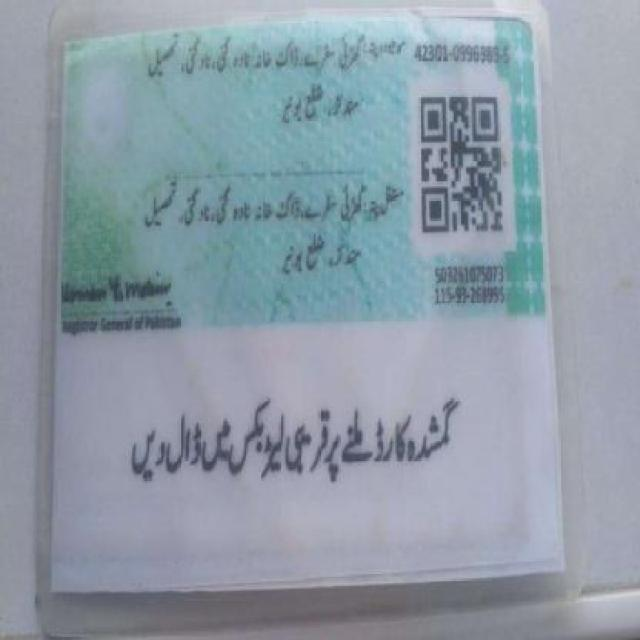Back: (40, 11, 575, 589)
